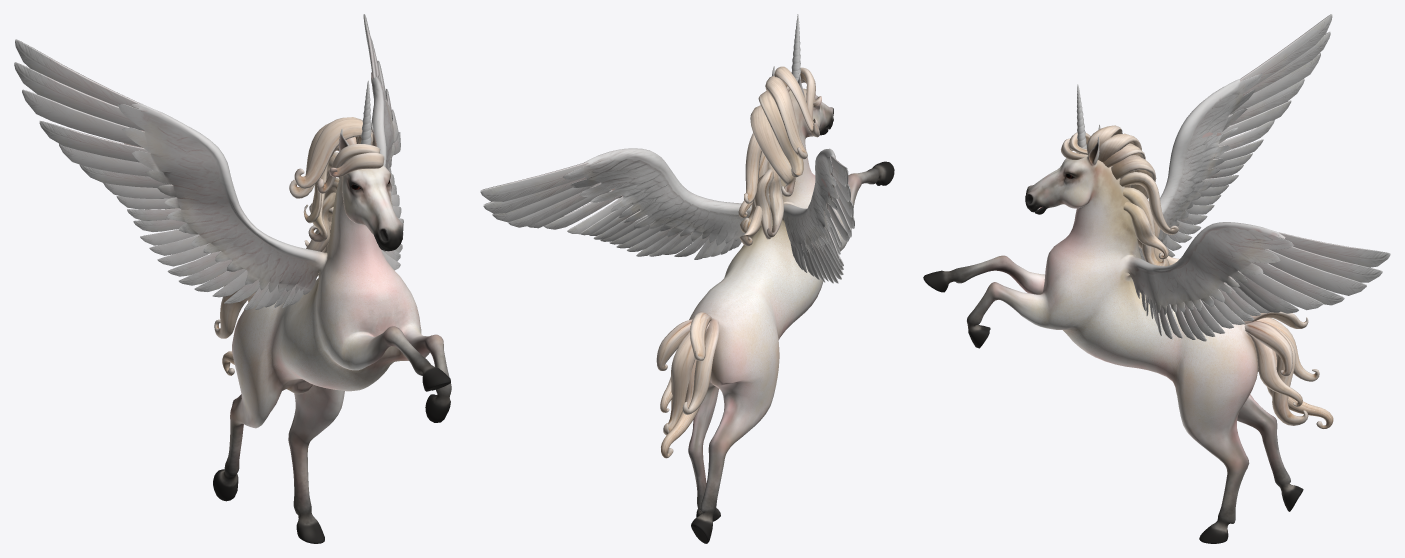
3 views of the same model, side by side, from view 1: azimuth 30°, elevation 25°; view 2: azimuth 150°, elevation 25°; view 3: azimuth 270°, elevation 25° (orthographic). The views are drawn at different scales.
Visible parts, largest first — view 1: unicorn.1_1; view 2: unicorn.1_1; view 3: unicorn.1_1.
Part boxes in pixels (box(x1,y1,x2,y2)): unicorn.1_1: box(14, 14, 451, 543); unicorn.1_1: box(480, 14, 894, 543); unicorn.1_1: box(923, 14, 1390, 543).
Bounding box in the file's own units: 3.88 × 4.99 × 4.73.
Materials: 1 (1 with a texture image).
